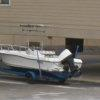Boat: (2, 34, 88, 83)
